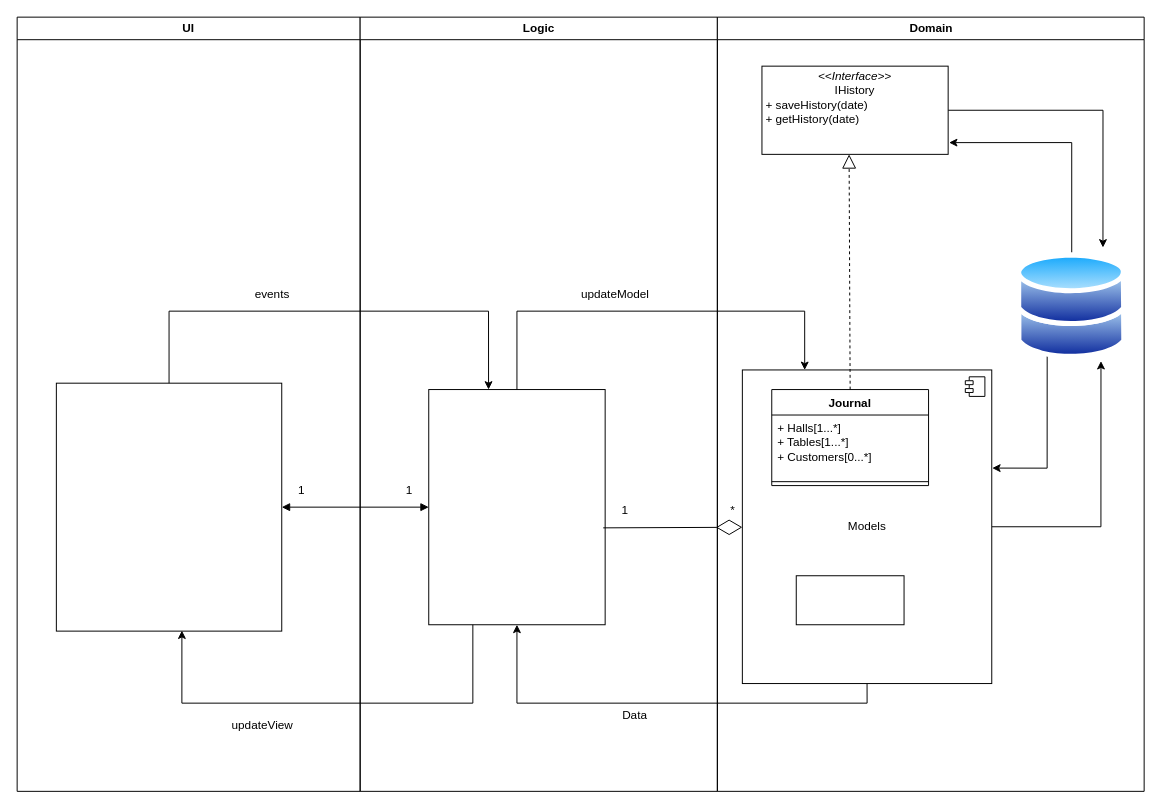
Some shapes in this 1161 by 809 pixel diagram are drawn without their labels. Each missing label, with the centre of its shape:
"DiningTables" belongs at pixel 849 600.
"Preseter" belongs at pixel 516 507.
"View" belongs at pixel 168 506.
